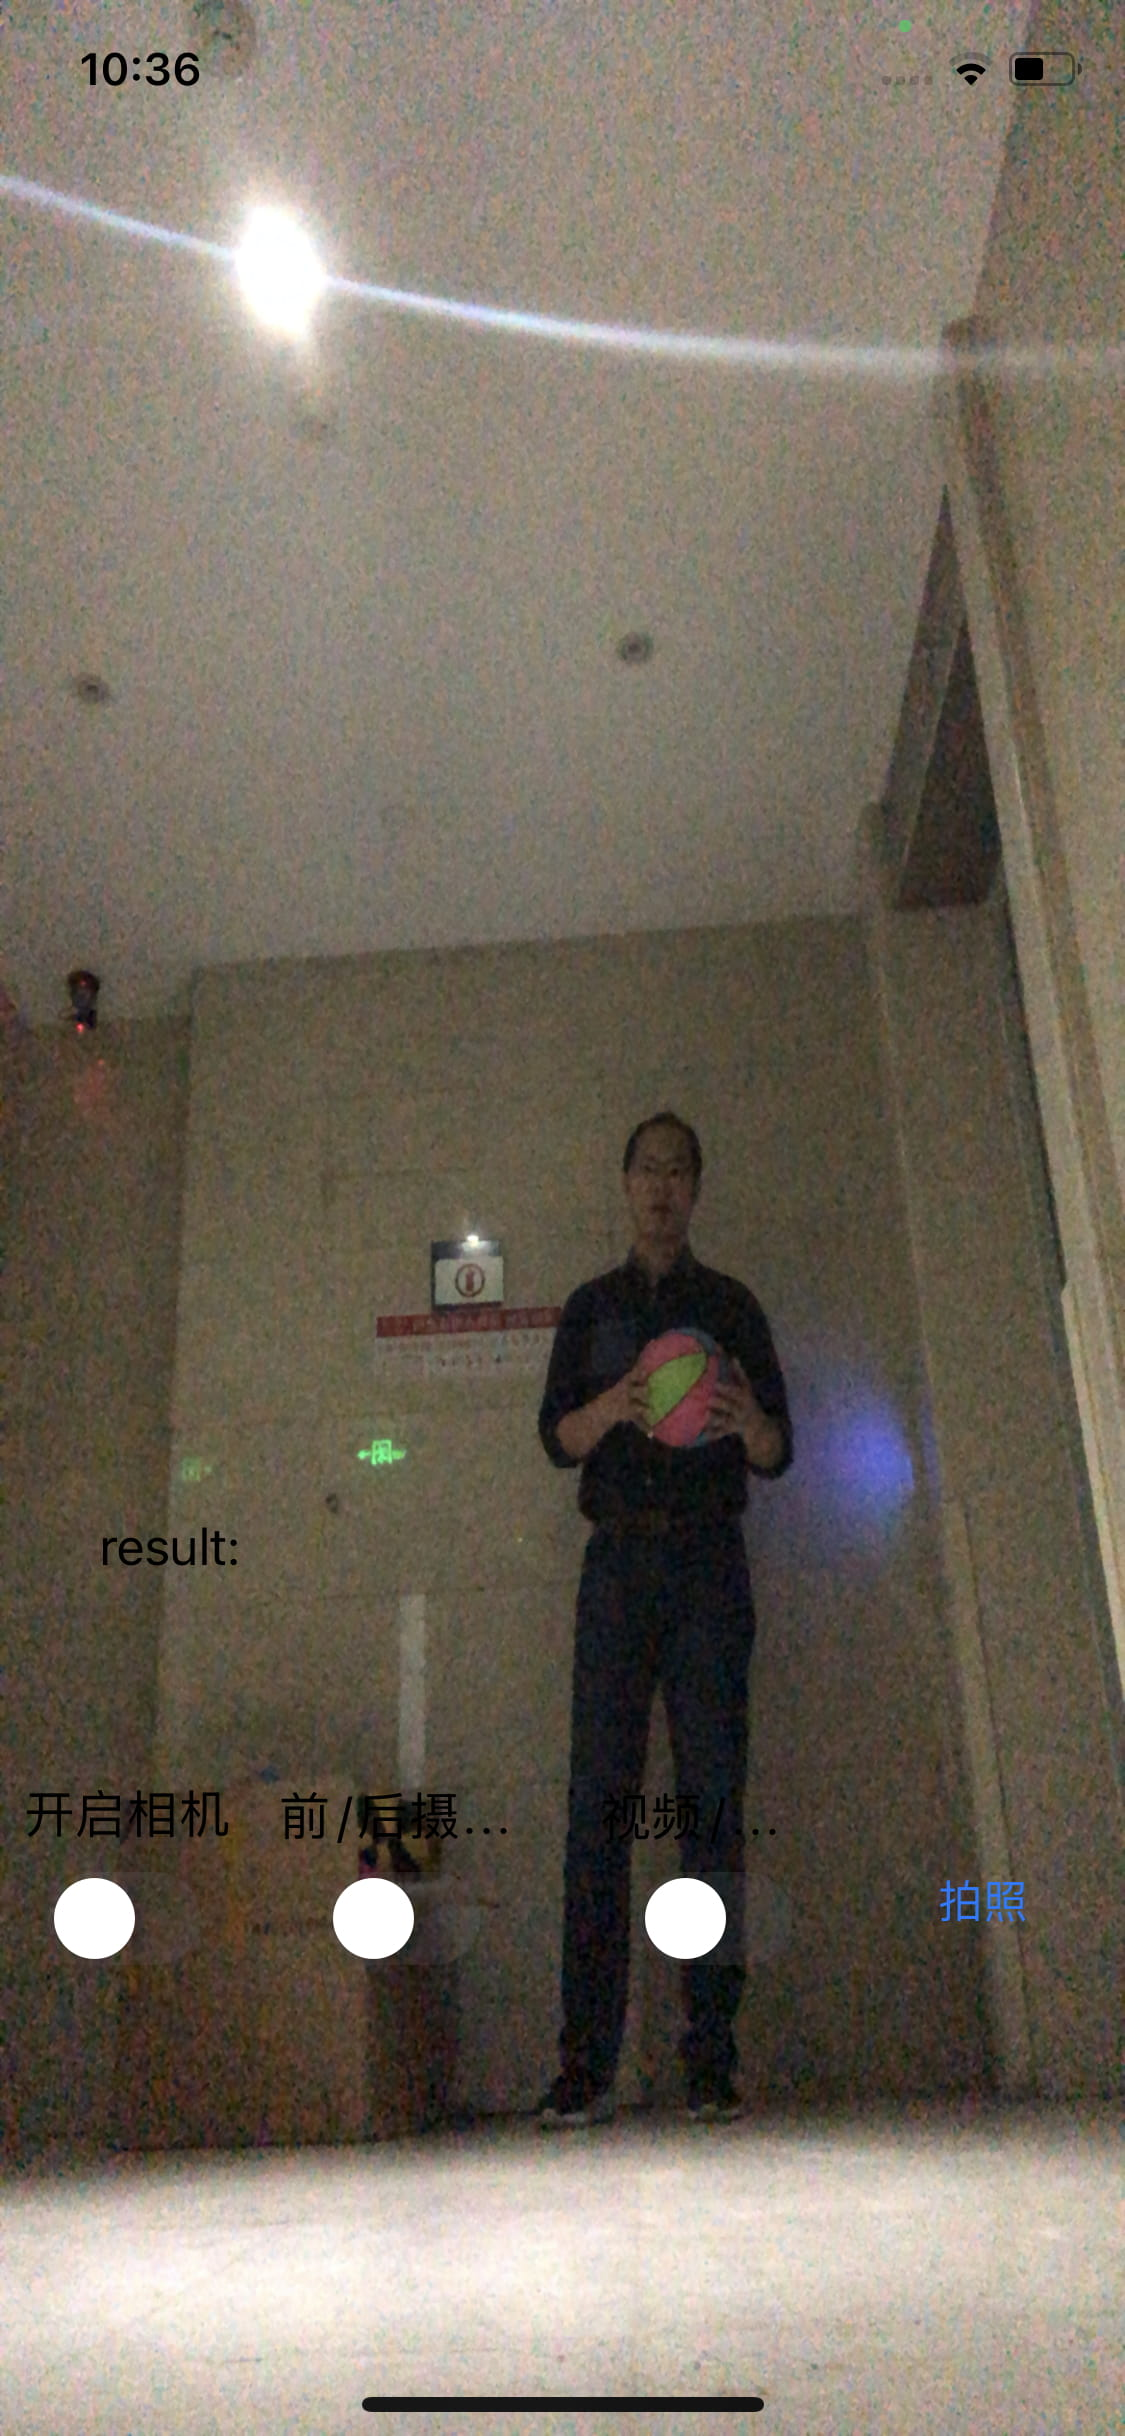ball: (632, 1324, 743, 1454)
